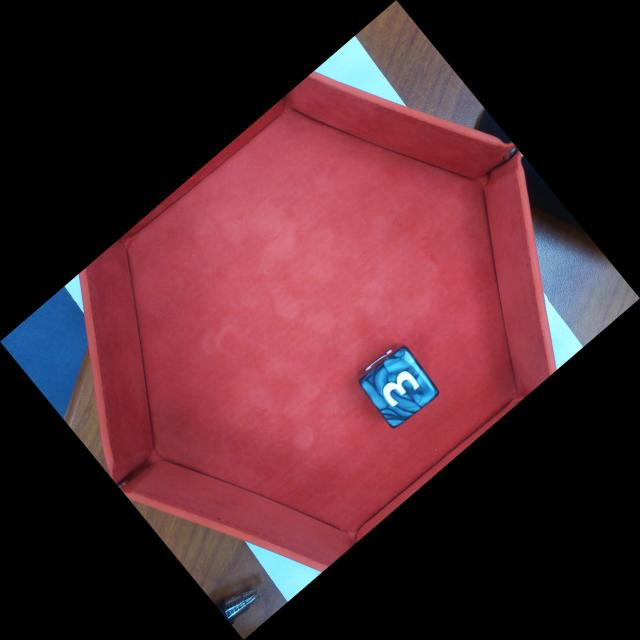dice: (363, 349, 440, 417)
